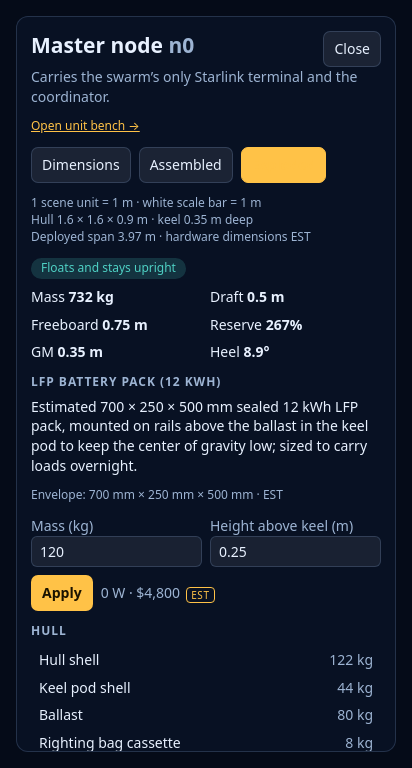
Test: ExplodedPanel › an unstable edit is blocked, explained, and offers a fix
Replace the text in the field labelled "Mass (kg)" with "1500" at [116, 551], box [31,536,202,567]
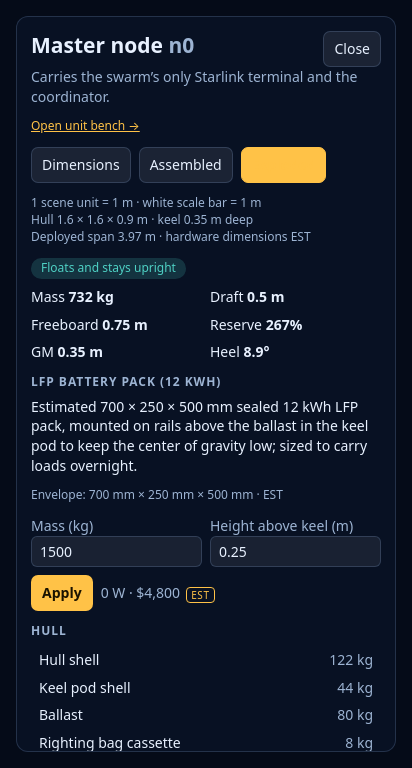
Click the button "Apply".
click(62, 593)  # box [31,575,93,611]
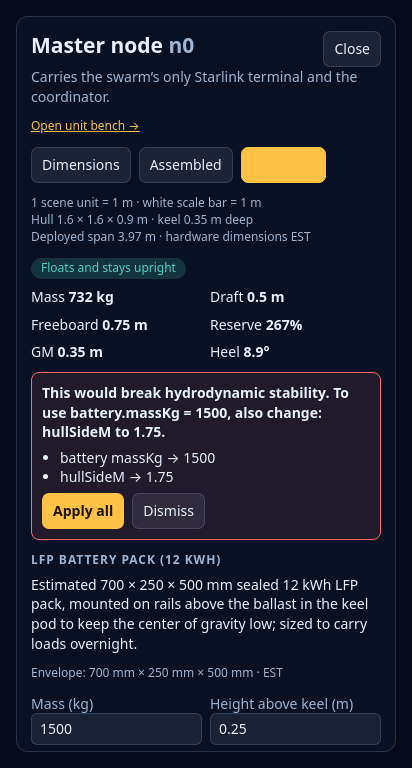
Result: the text "hydrodynamic stability" is shown at [42,383,349,441]
Click the button "Apply all".
click(83, 511)  # box [42,493,124,529]
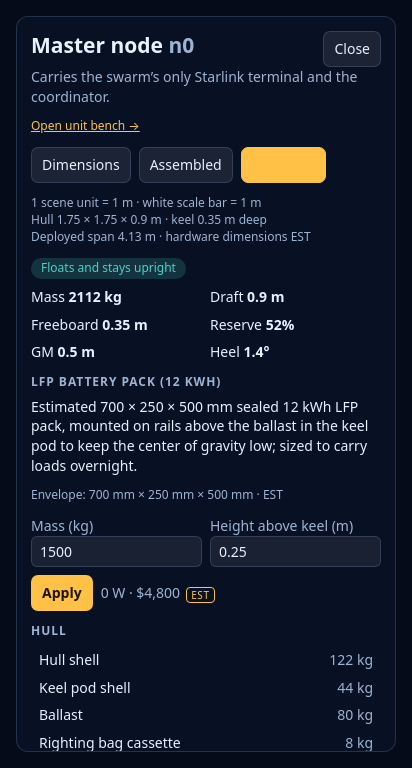
Result: the text "hydrodynamic stability" is gone
